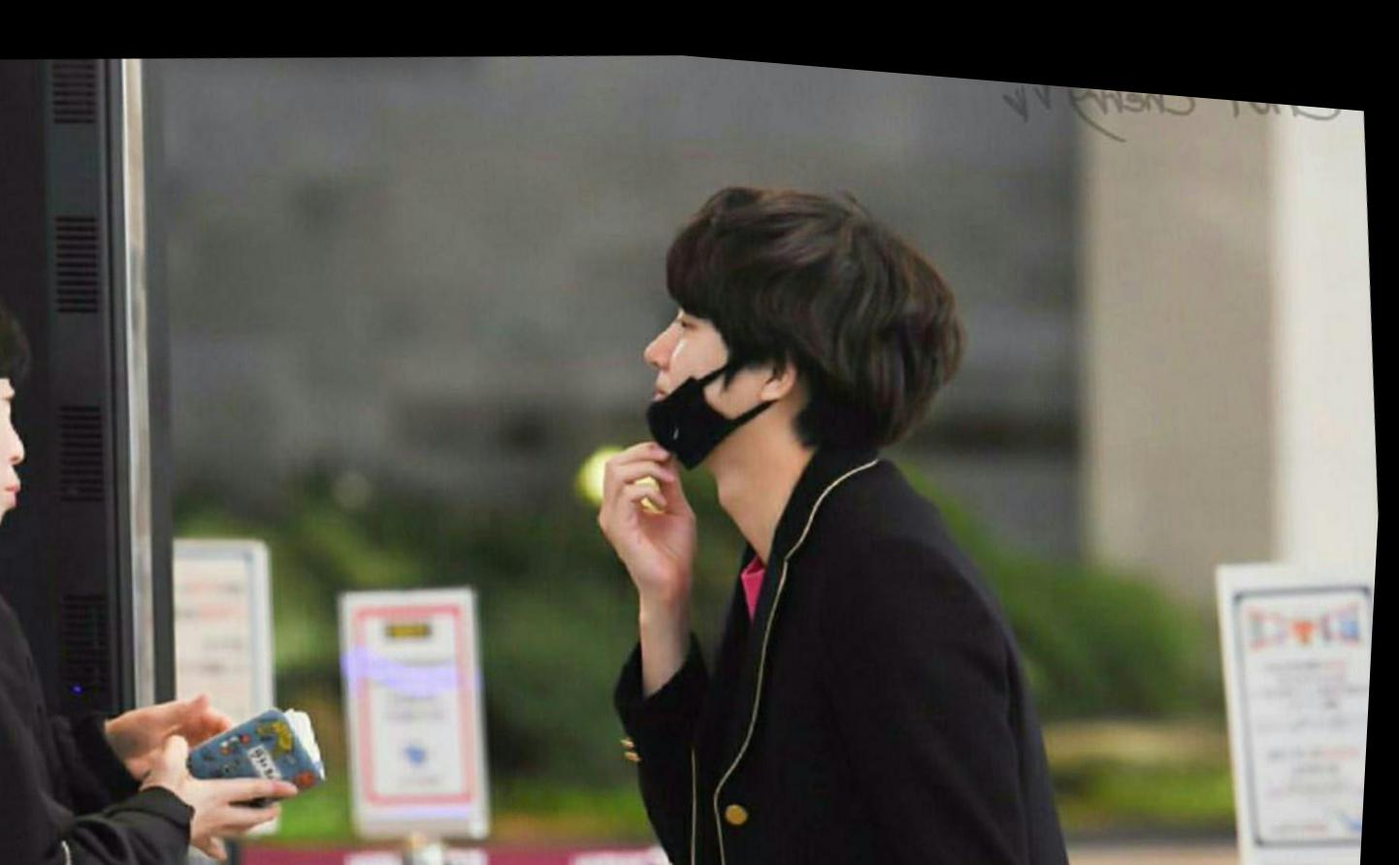NONE: (1, 381, 46, 537)
WRONG: (634, 251, 780, 465)
